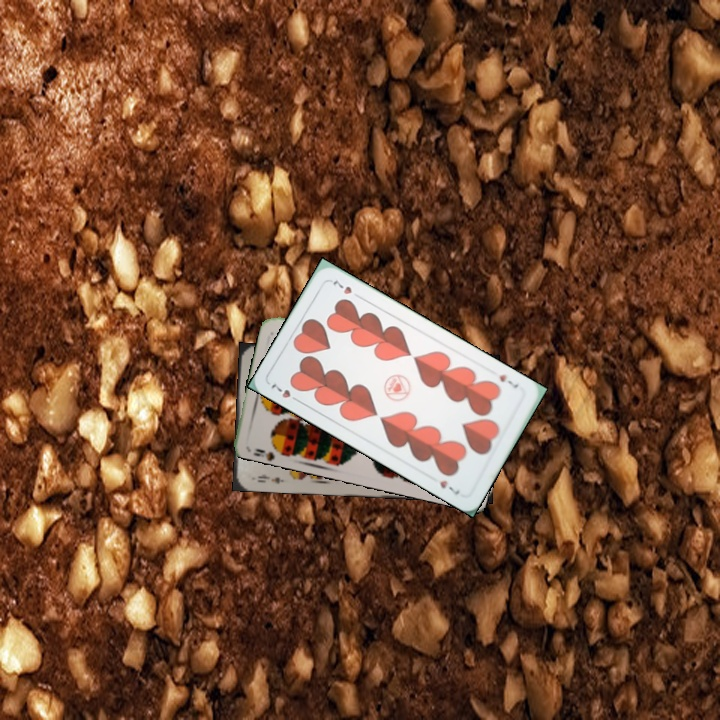E9: (253, 470, 286, 486)
H7: (267, 379, 303, 405), (495, 370, 521, 391)
S9: (250, 439, 287, 460)
